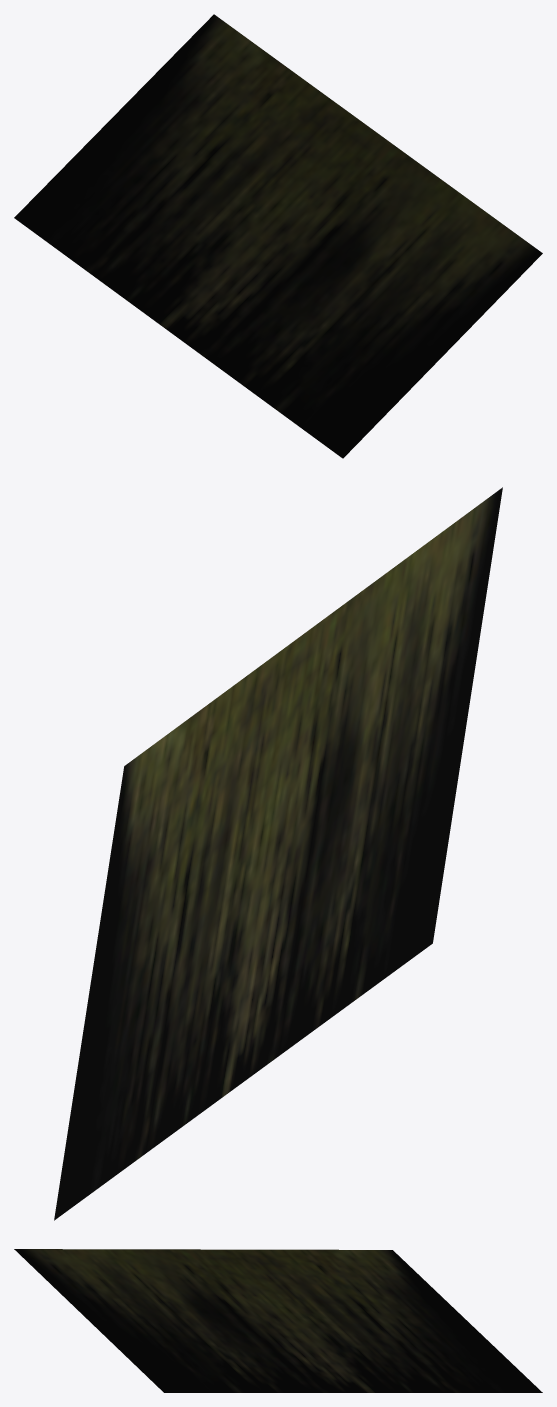
The model's file is mlzd_tengm_02.FBX.
The picture shows the model from 3 angles, top to bottom: view 1: azimuth 30°, elevation 25°; view 2: azimuth 150°, elevation 25°; view 3: azimuth 270°, elevation 25°; orthographic projection. The views are drawn at different scales.
Parts seen in each view (by area): view 1: mlzd_tengm_02; view 2: mlzd_tengm_02; view 3: mlzd_tengm_02.
Part boxes in pixels (box(x1,y1,x2,y2)): mlzd_tengm_02: box(14, 14, 542, 458); mlzd_tengm_02: box(54, 487, 502, 1220); mlzd_tengm_02: box(14, 1249, 542, 1392).
Size of the model in its own units: 58.77 by 229 by 672.
